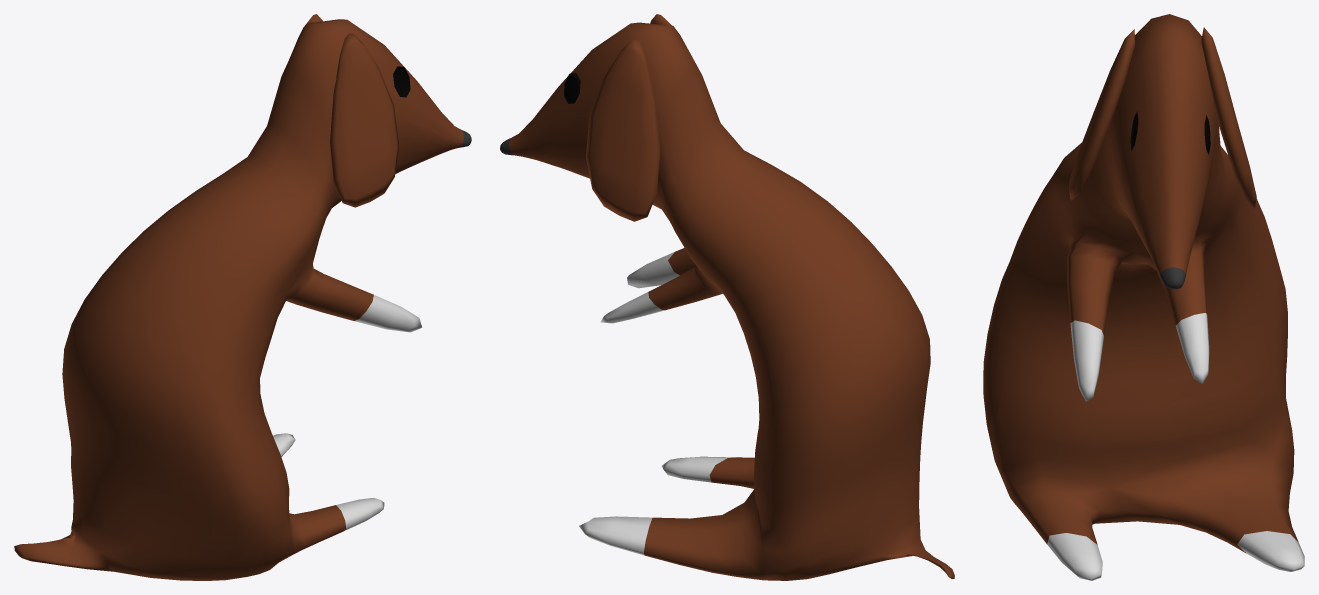
Rendered from ween_medium_sit.fbx.
3 views of the same model, side by side, from view 1: azimuth 30°, elevation 25°; view 2: azimuth 150°, elevation 25°; view 3: azimuth 270°, elevation 25° (orthographic). The views are drawn at different scales.
Visible parts, largest first — view 1: ween_medium_sit; view 2: ween_medium_sit; view 3: ween_medium_sit.
Part boxes in pixels (<box>): ween_medium_sit: <box>14,14,471,580</box>; ween_medium_sit: <box>500,14,954,580</box>; ween_medium_sit: <box>983,14,1304,580</box>.
Bounding box in the file's own units: 131 × 247 × 256.
